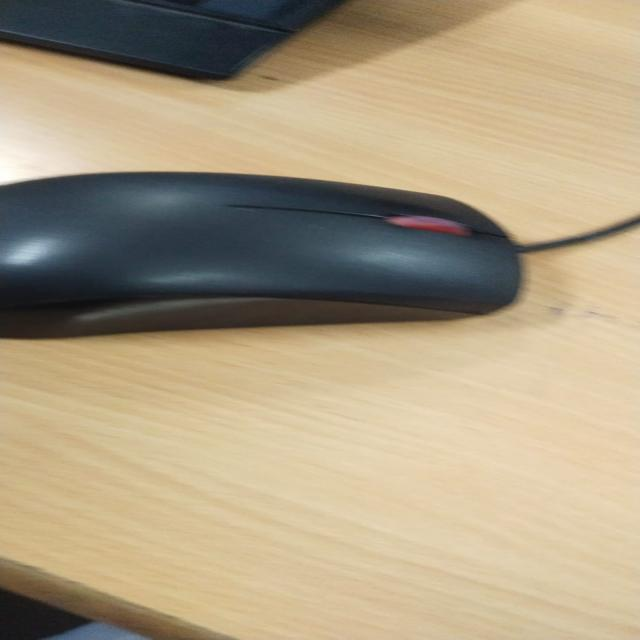mouse: (0, 135, 635, 424)
